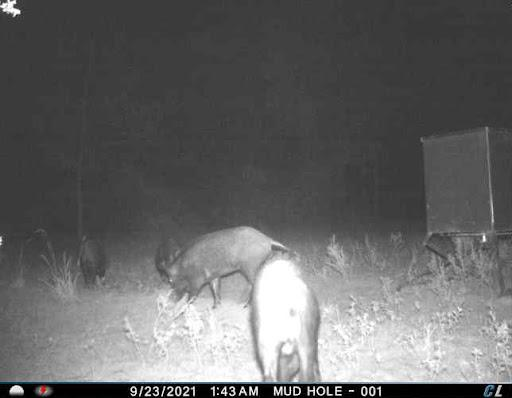Hog: (158, 223, 302, 307), (242, 251, 327, 383), (76, 234, 109, 291)
